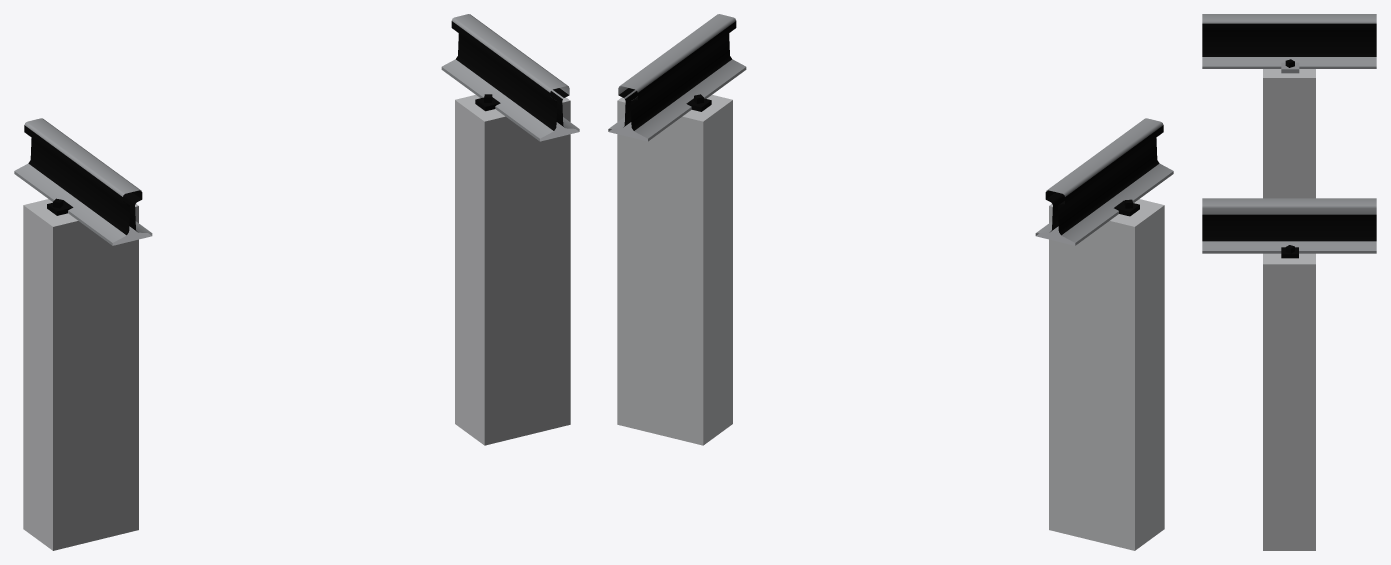
The model's file is trackno3rdtype2.obj.
The picture shows the model from 3 angles, left to right: view 1: azimuth 30°, elevation 25°; view 2: azimuth 150°, elevation 25°; view 3: azimuth 270°, elevation 25°; orthographic projection. The views are drawn at different scales.
Parts seen in each view (by area): view 1: rail_siding; view 2: rail_siding; view 3: rail_siding.
Boxes of the visible parts, bbox=[...] form: rail_siding: bbox=[14, 14, 579, 550]; rail_siding: bbox=[608, 14, 1173, 550]; rail_siding: bbox=[1202, 14, 1376, 550].
Bounding box in the file's own units: 1.82 × 1.25 × 0.6.
1 material, 1 textured.
